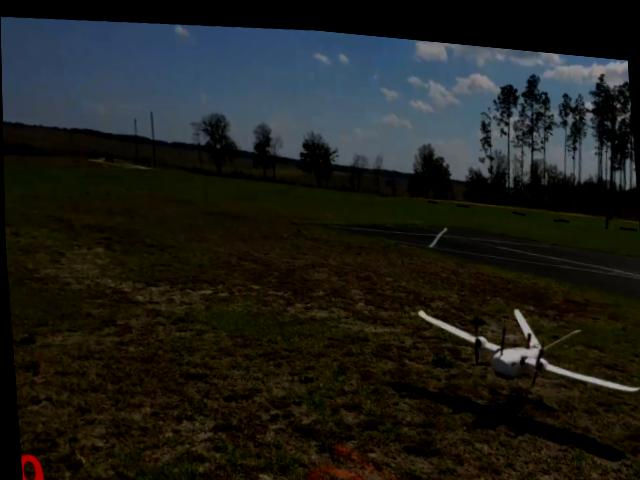plane: (414, 280, 639, 394)
